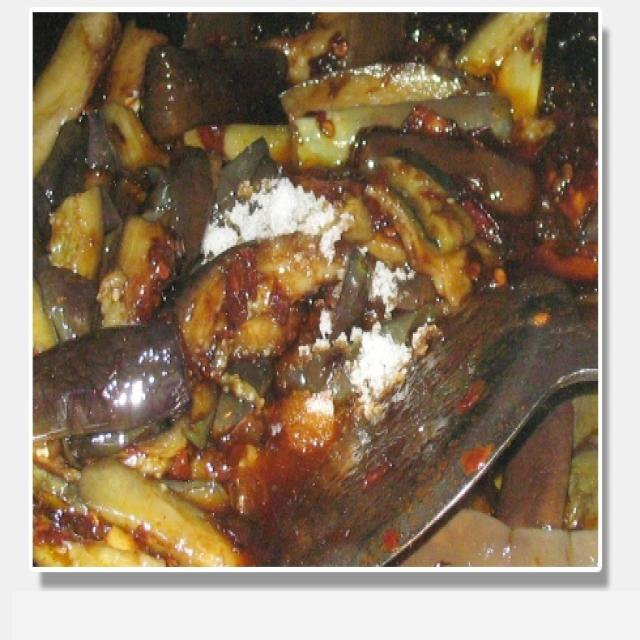鸡蛋料理: (59, 28, 592, 560)
